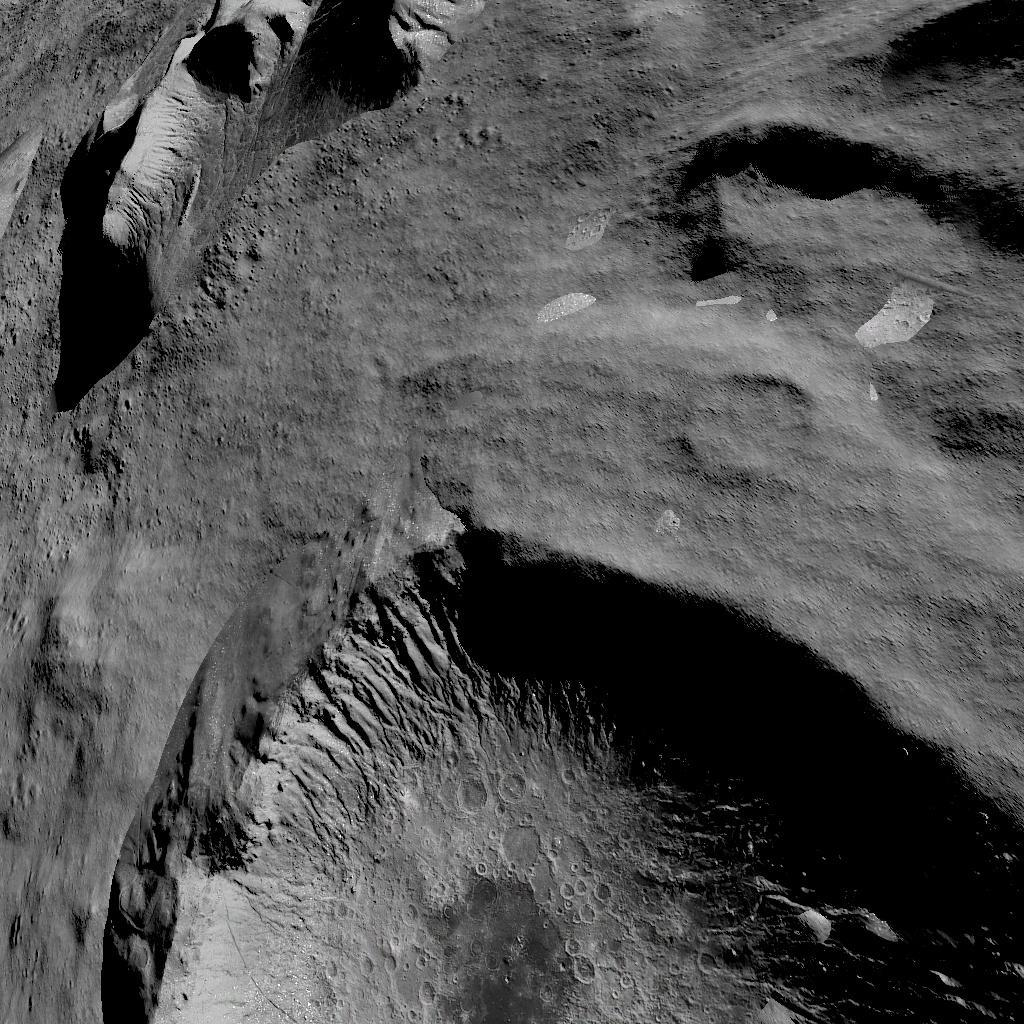Boulders: (33, 0, 485, 391)
Crater: (79, 512, 1024, 1024), (645, 0, 1024, 311), (667, 362, 805, 480)
